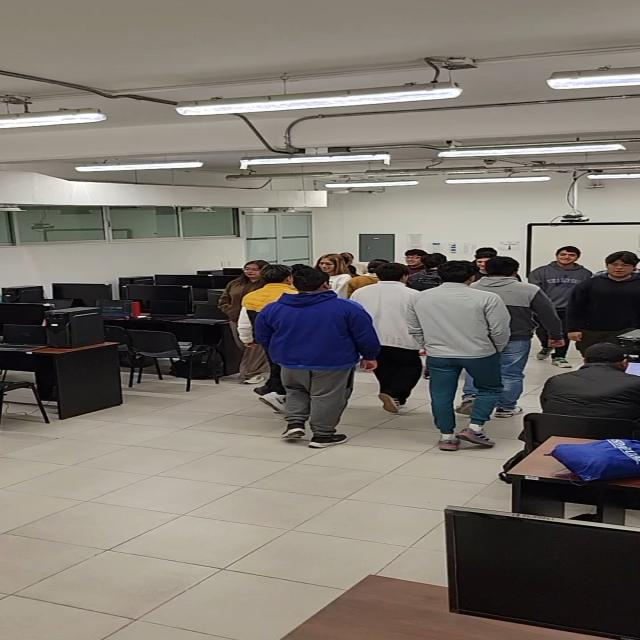Persona: (251, 270, 384, 451), (404, 261, 511, 451), (470, 257, 568, 417), (561, 252, 640, 349), (220, 260, 277, 391), (525, 246, 581, 368), (239, 264, 303, 350), (310, 254, 360, 302), (406, 253, 452, 288), (403, 248, 426, 288)
